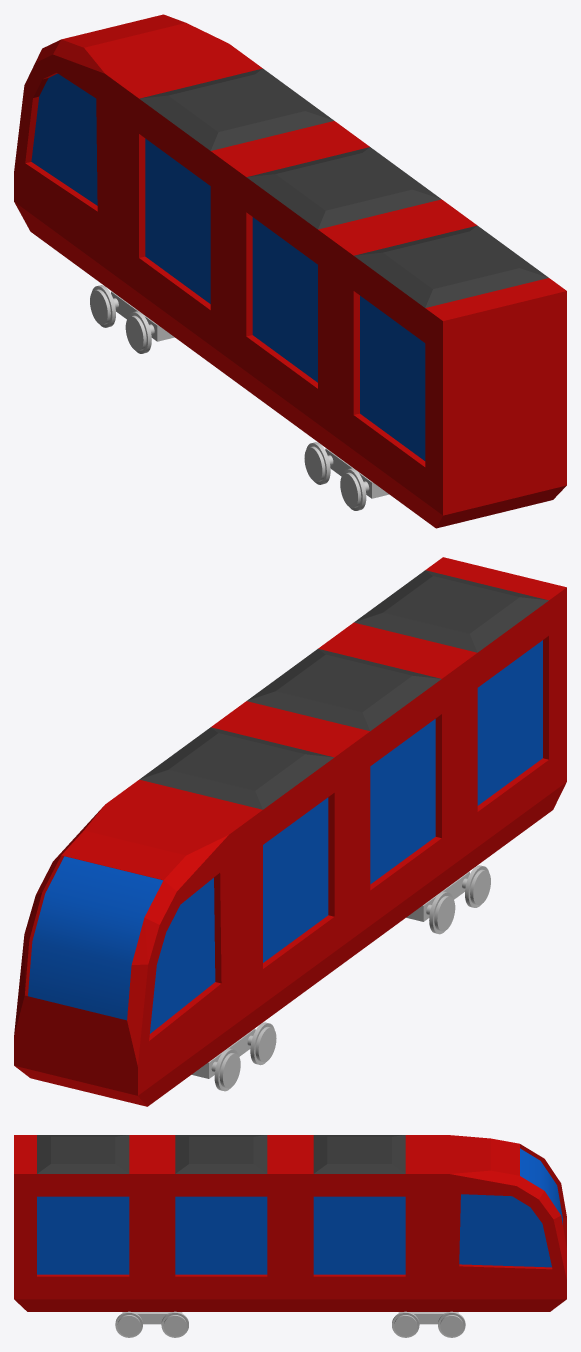
Rendered from Zug.obj.
3 views of the same model, one above another, from view 1: azimuth 30°, elevation 25°; view 2: azimuth 150°, elevation 25°; view 3: azimuth 270°, elevation 25° (orthographic). The views are drawn at different scales.
Visible parts, largest first — view 1: Plane.011; view 2: Plane.011; view 3: Plane.011.
Part boxes in pixels (bbox=[...]): Plane.011: bbox=[14, 14, 566, 528]; Plane.011: bbox=[14, 557, 566, 1106]; Plane.011: bbox=[14, 1135, 566, 1337].
Bounding box in the file's own units: 2.15 × 4.01 × 12.
